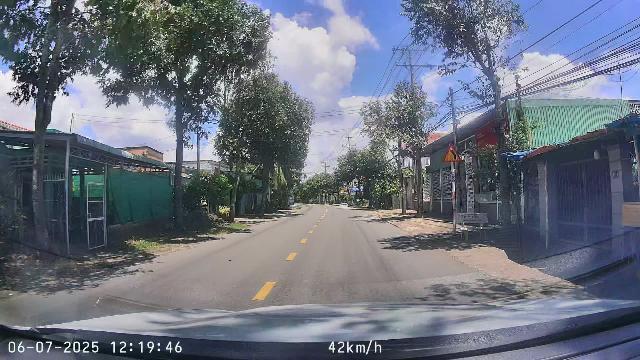201-cho-ngoat-nguy-hiem: (443, 145, 461, 162)
